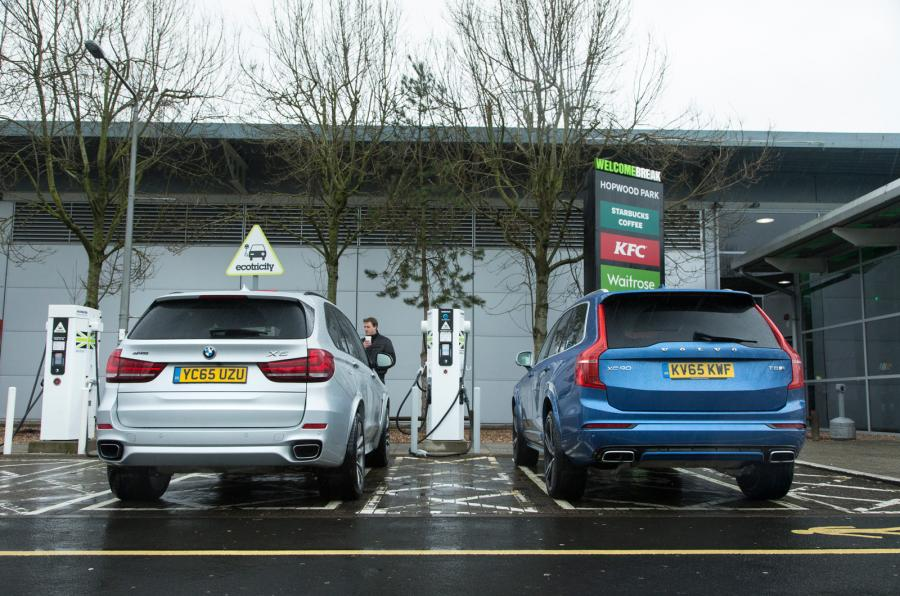car: (98, 290, 391, 504), (510, 289, 804, 498)
